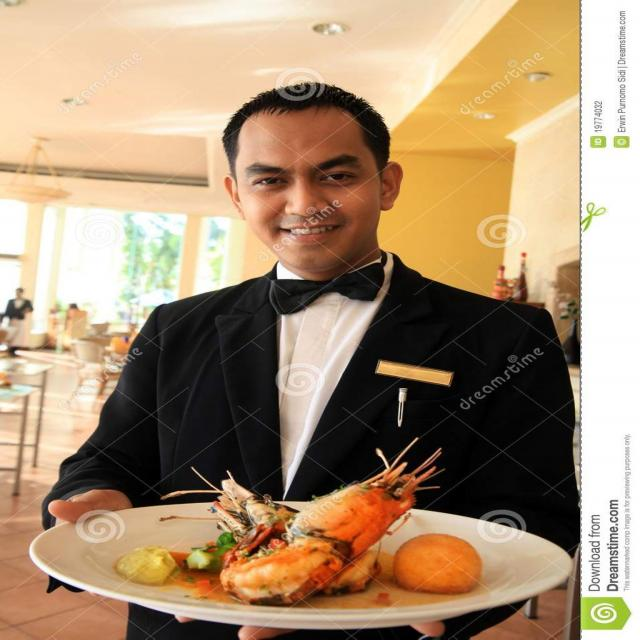nomask: (230, 110, 390, 267)
